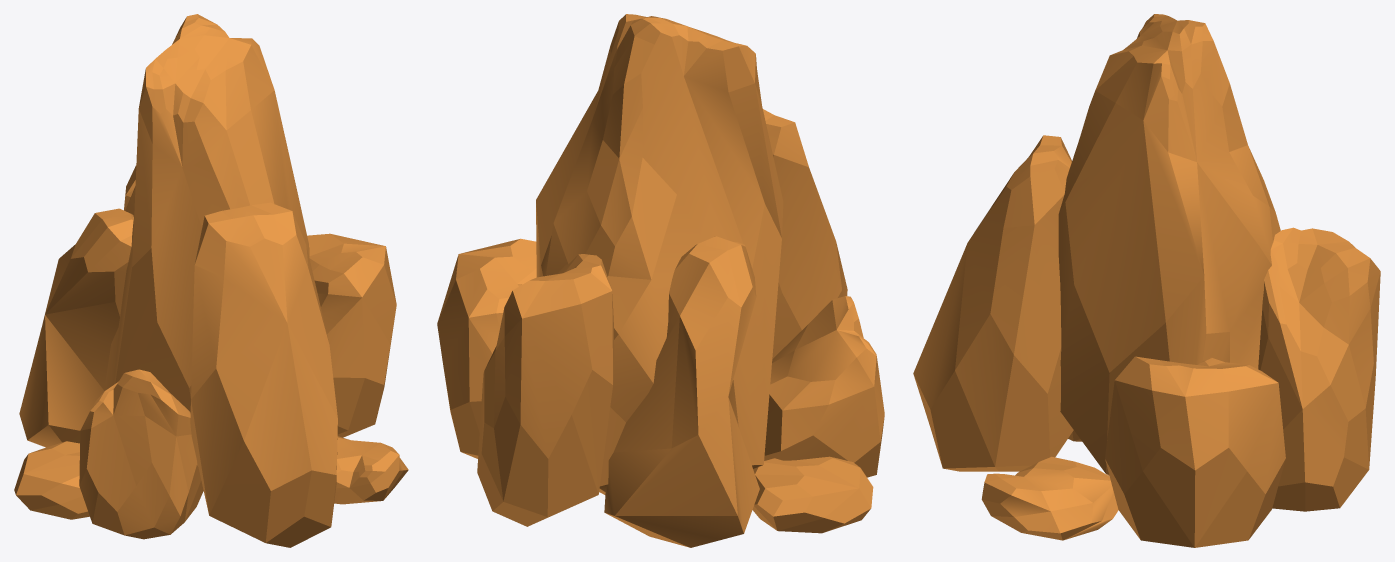
File: SM_RockFormation_B.fbx
The picture shows the model from 3 angles, left to right: view 1: azimuth 30°, elevation 25°; view 2: azimuth 150°, elevation 25°; view 3: azimuth 270°, elevation 25°; orthographic projection. The views are drawn at different scales.
Parts seen in each view (by area): view 1: SM_RockFormation_B; view 2: SM_RockFormation_B; view 3: SM_RockFormation_B.
Boxes of the visible parts, x1,y1,x2,y2 form: SM_RockFormation_B: (14,14,408,547); SM_RockFormation_B: (437,14,884,547); SM_RockFormation_B: (913,14,1380,547).
Bounding box in the file's own units: 310 × 337 × 310.
